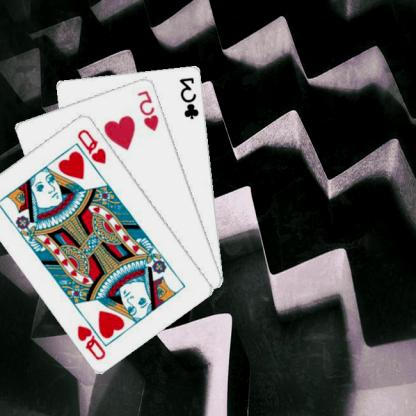3C: (179, 74, 202, 121)
5H: (136, 87, 162, 132)
QH: (76, 312, 112, 361), (76, 126, 110, 165)
